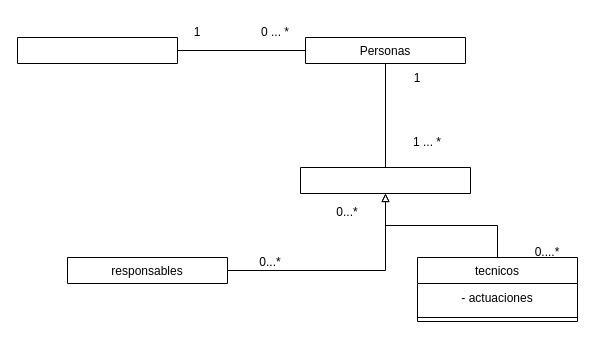
The diagram is 595 pixels wide and 339 high, and some of its shapes have lost their labels. The centre of each missing label's shape, as x and y in pixels:
"actuaciones" goes at (97,50).
"roles" goes at (385,180).
